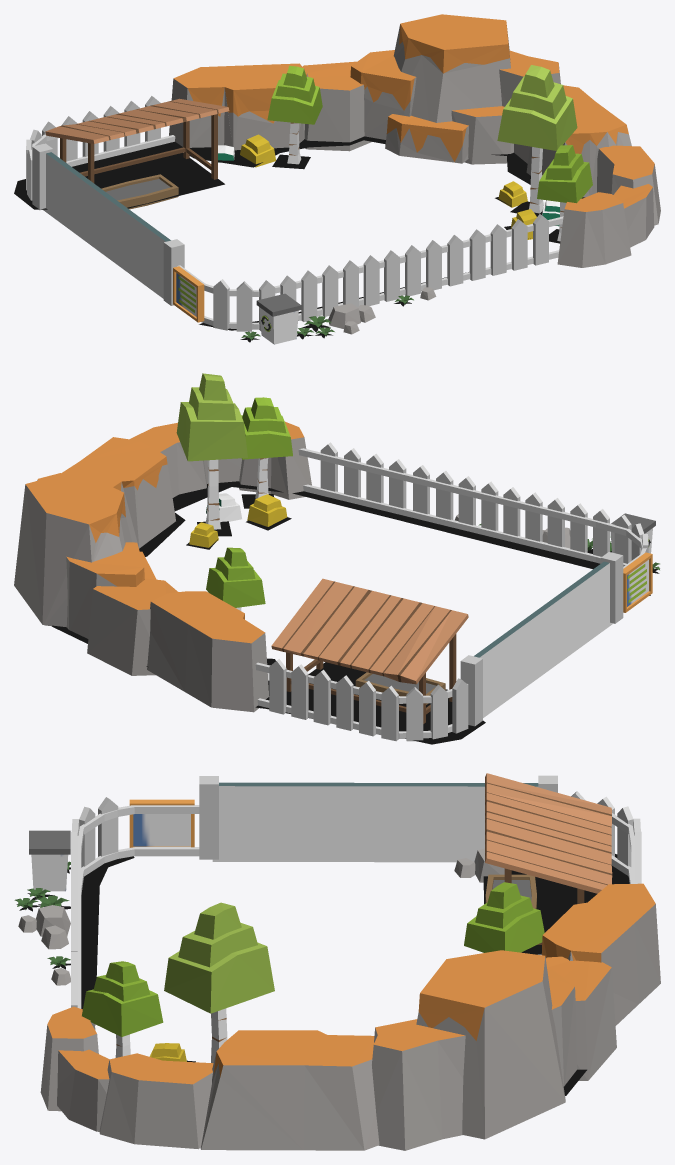
Rendered from xweilan_1002_2.FBX.
3 renders of one model, top to bottom at view 1: azimuth 30°, elevation 25°; view 2: azimuth 150°, elevation 25°; view 3: azimuth 270°, elevation 25°, orthographic. The views are drawn at different scales.
Parts seen in each view (by area): view 1: xweilan_1002_2; view 2: xweilan_1002_2; view 3: xweilan_1002_2.
Part boxes in pixels (left/top/right/bottom): xweilan_1002_2: left=14, top=14, right=660, bottom=344; xweilan_1002_2: left=14, top=373, right=659, bottom=744; xweilan_1002_2: left=14, top=773, right=660, bottom=1150.
Bounding box in the file's own units: 4839 × 1434 × 4381.
